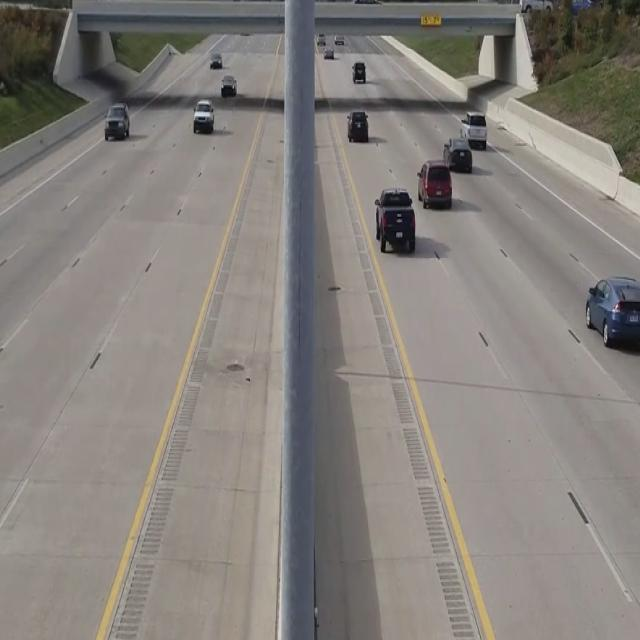car: (585, 276, 640, 351), (374, 187, 416, 253), (417, 160, 452, 209), (443, 135, 472, 173), (104, 102, 130, 139), (346, 108, 369, 142), (193, 98, 214, 133), (221, 75, 236, 97), (352, 61, 365, 82)
